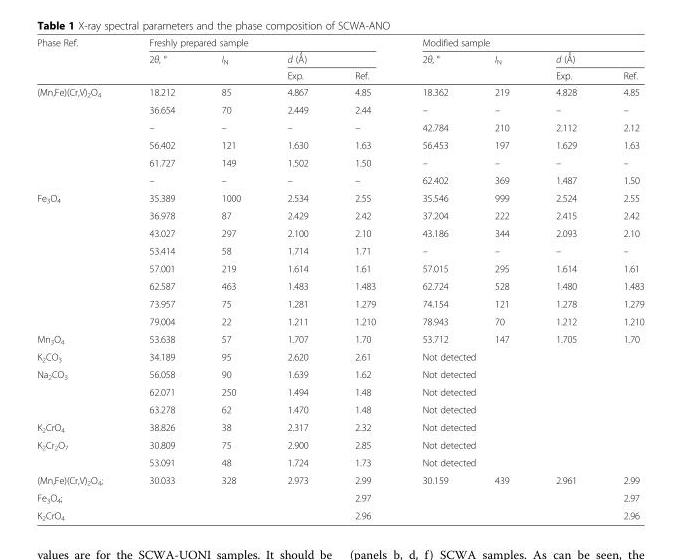table: (36, 36, 643, 521)
table column: (36, 36, 125, 521), (125, 36, 197, 521), (398, 36, 470, 521), (330, 36, 398, 521), (531, 36, 599, 521), (263, 36, 330, 521), (197, 36, 263, 521), (470, 36, 531, 521), (599, 36, 643, 521)
table column header: (36, 36, 643, 83)
table row: (36, 49, 643, 67), (36, 100, 643, 118), (36, 135, 643, 153), (36, 153, 643, 171), (36, 188, 643, 206), (36, 206, 643, 224), (36, 241, 643, 259), (36, 276, 643, 294), (36, 294, 643, 312), (36, 329, 643, 347), (36, 347, 643, 365), (36, 382, 643, 400), (36, 400, 643, 418), (36, 418, 643, 436), (36, 453, 643, 471), (36, 471, 643, 489), (36, 83, 643, 100), (36, 118, 643, 135), (36, 171, 643, 188), (36, 224, 643, 241), (36, 259, 643, 276), (36, 312, 643, 329), (36, 365, 643, 382), (36, 436, 643, 453), (36, 489, 643, 506), (36, 67, 643, 83), (36, 506, 643, 521), (36, 36, 643, 49)
table spanning cell: (36, 188, 125, 329), (36, 83, 125, 188), (36, 365, 125, 418), (398, 347, 643, 365), (398, 382, 643, 400), (398, 400, 643, 418), (398, 418, 643, 436), (398, 453, 643, 471), (36, 36, 125, 83), (398, 365, 643, 382), (398, 436, 643, 453), (125, 36, 398, 49), (398, 36, 643, 49), (36, 436, 125, 471), (125, 49, 197, 83), (398, 49, 470, 83), (263, 49, 398, 67), (197, 49, 263, 83), (470, 49, 531, 83), (531, 49, 643, 67)
